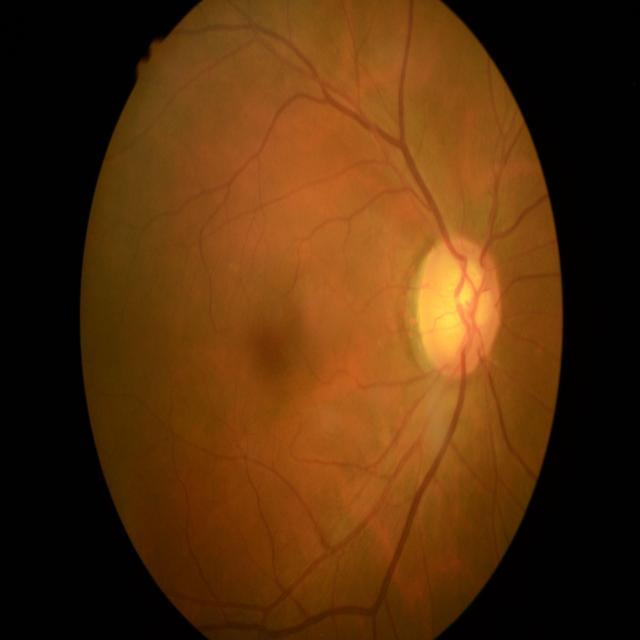cup: (428, 255, 494, 363)
disk: (418, 235, 502, 381)
